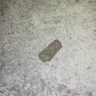Dog: (40, 39, 62, 64)
